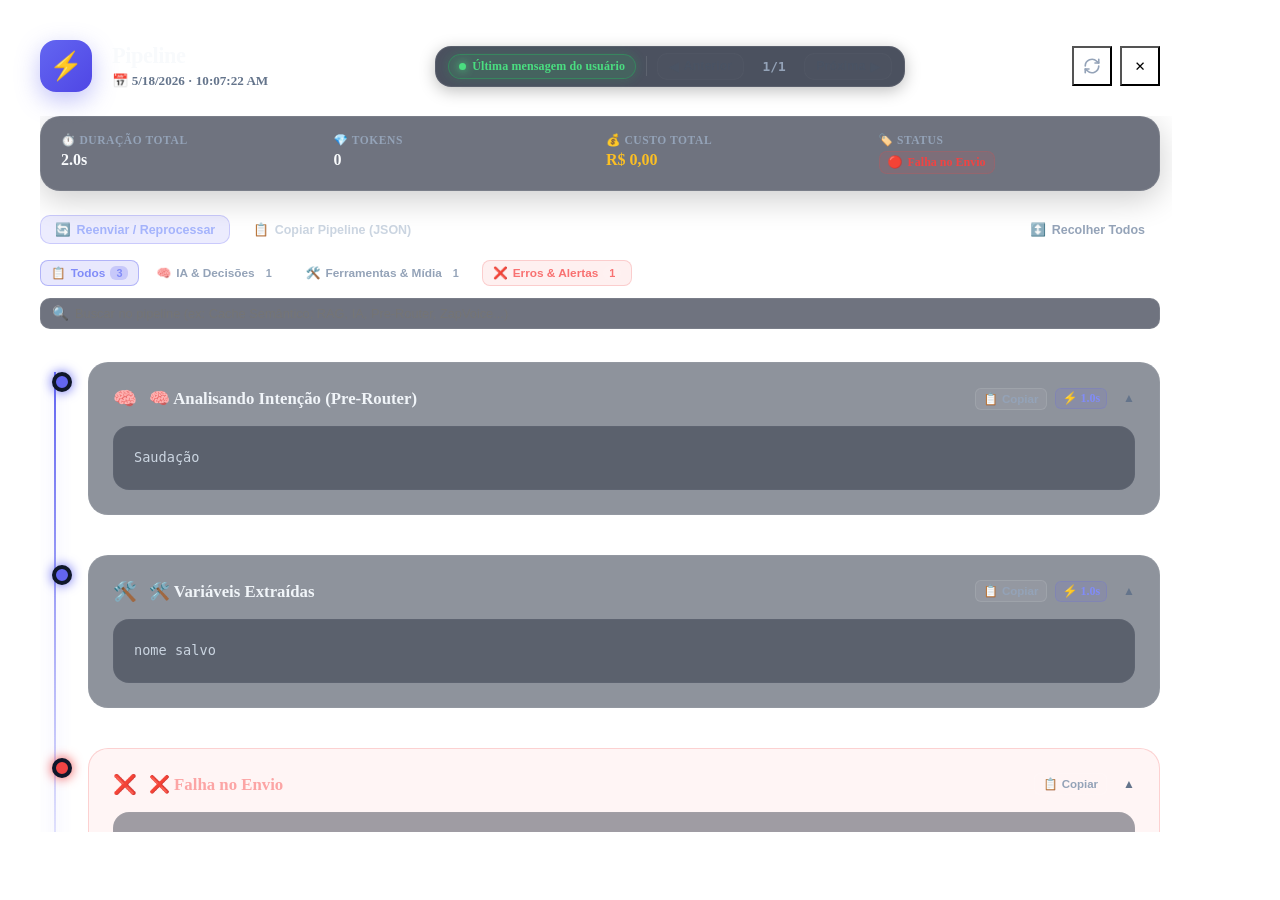
Test: AutomationPipelineModal Component › deve permitir filtrar passos por categorias usando as abas da FilterBar
The image size is (1280, 900).
Expected: the heading "🧠 Analisando Intenção (Pre-Router)" is shown, x1=149 y1=388 x2=417 y2=409
Expected: the heading "🛠️ Variáveis Extraídas" is shown, x1=149 y1=581 x2=314 y2=602
Clicar na aba Erros & Alertas
Click the text "Erros & Alertas" at (556, 273), box x1=513 y1=266 x2=598 y2=280
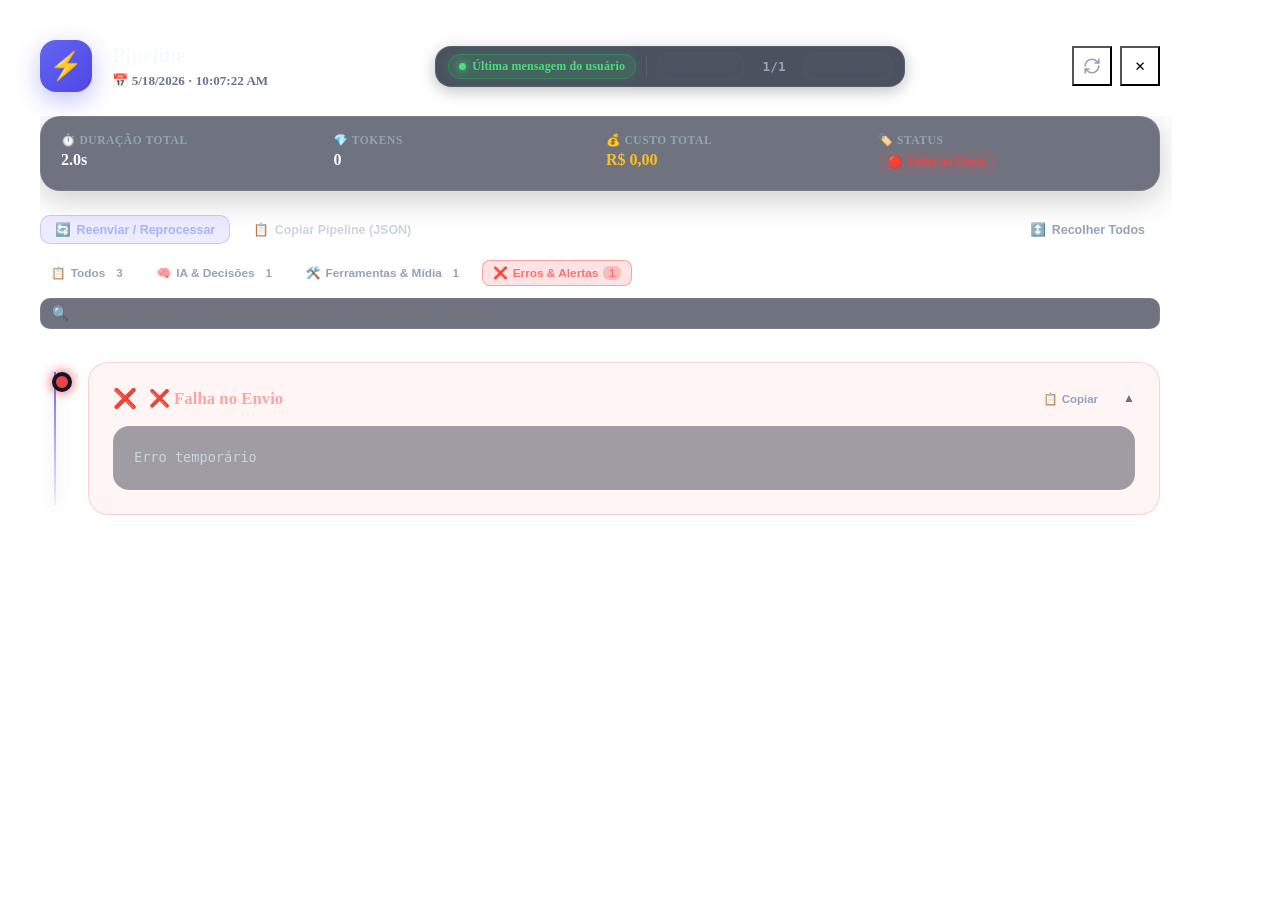
Expected: the heading "❌ Falha no Envio" is shown, x1=149 y1=388 x2=283 y2=409
Expected: the heading "Analisando Intenção" is gone
